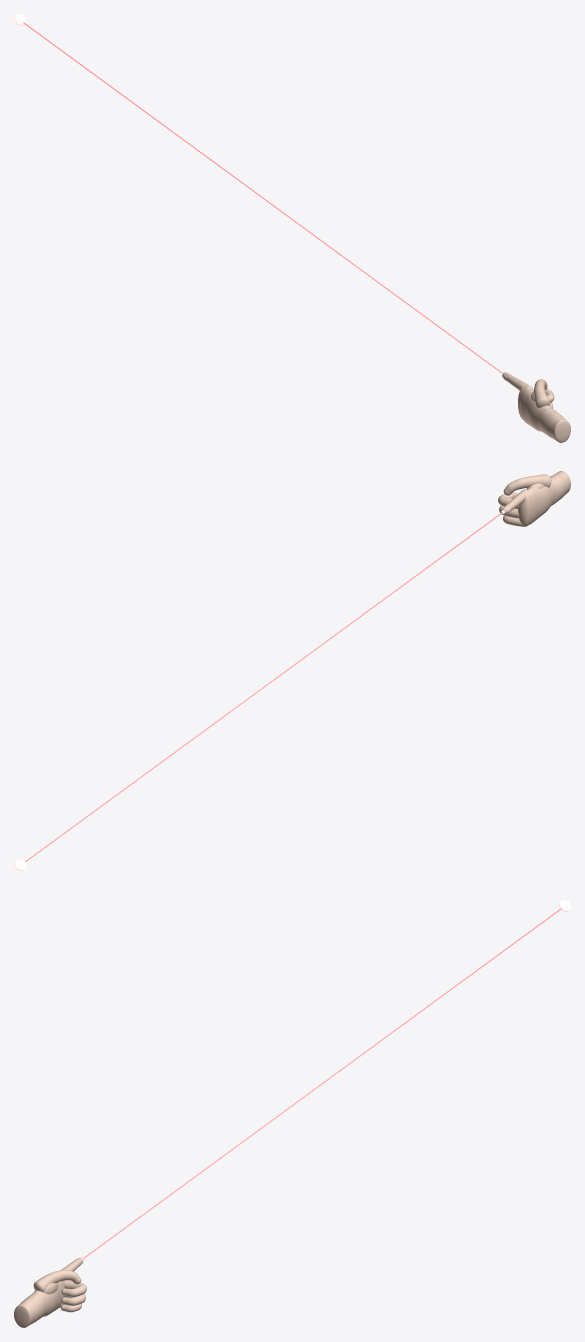
File: vr-hand-laser-left.glb
3 renders of one model, top to bottom at view 1: azimuth 30°, elevation 25°; view 2: azimuth 150°, elevation 25°; view 3: azimuth 330°, elevation 25°, orthographic.
Visible parts, largest first — view 1: Hand, LaserBeam; view 2: Hand, LaserBeam; view 3: Hand, LaserBeam.
Part boxes in pixels (bbox=[...]): Hand: bbox=[502, 372, 570, 442]; LaserBeam: bbox=[23, 22, 502, 373]; Hand: bbox=[498, 471, 570, 526]; LaserBeam: bbox=[25, 512, 502, 862]; Hand: bbox=[14, 1257, 86, 1327]; LaserBeam: bbox=[83, 908, 561, 1258].
Size of the model in its own units: 0.0837 by 0.0964 by 2.26.
